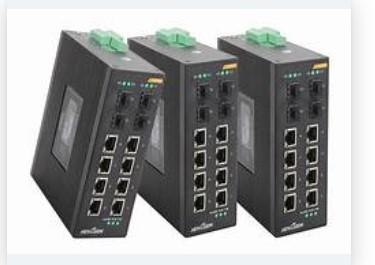NetworkSwitch: (30, 29, 165, 239)
